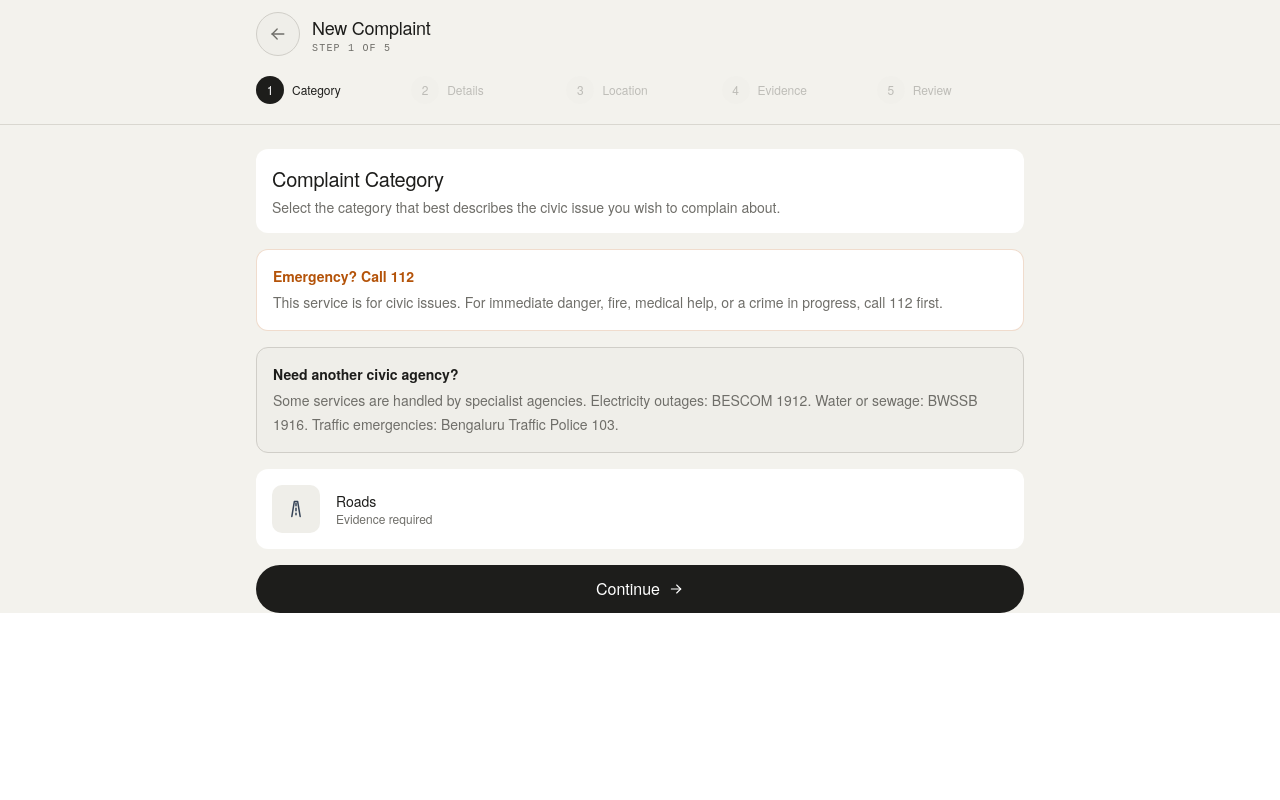
SubmitPage › allows navigating back to edit previous steps
The width and height of the screenshot is (1280, 800).
# Select category and proceed
What coordinates should you click on to do the following:
click the radio button "Roads"
I would click on:
 (352, 509)
Its box is top-left (272, 485), bottom-right (432, 533).
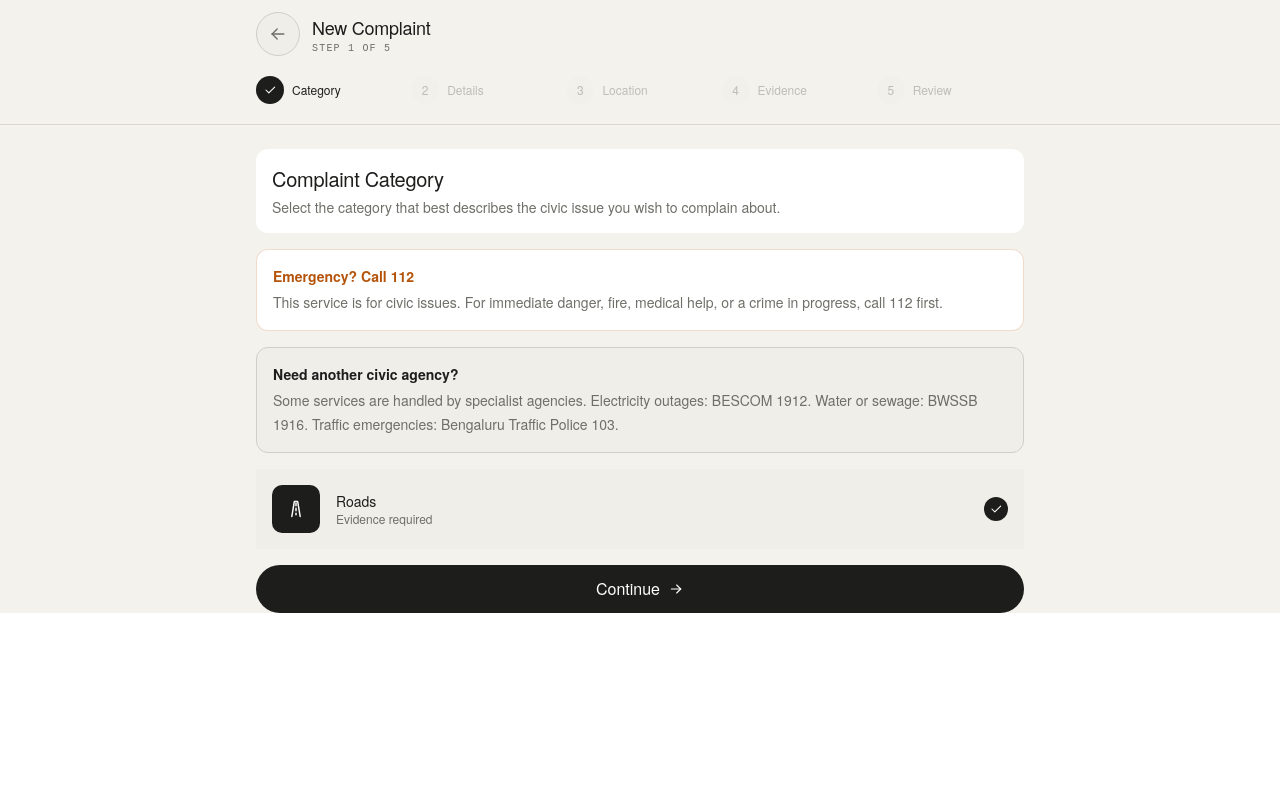
What coordinates should you click on to do the following:
click the button "Continue"
I would click on:
 (640, 589)
Its box is top-left (256, 565), bottom-right (1024, 613).
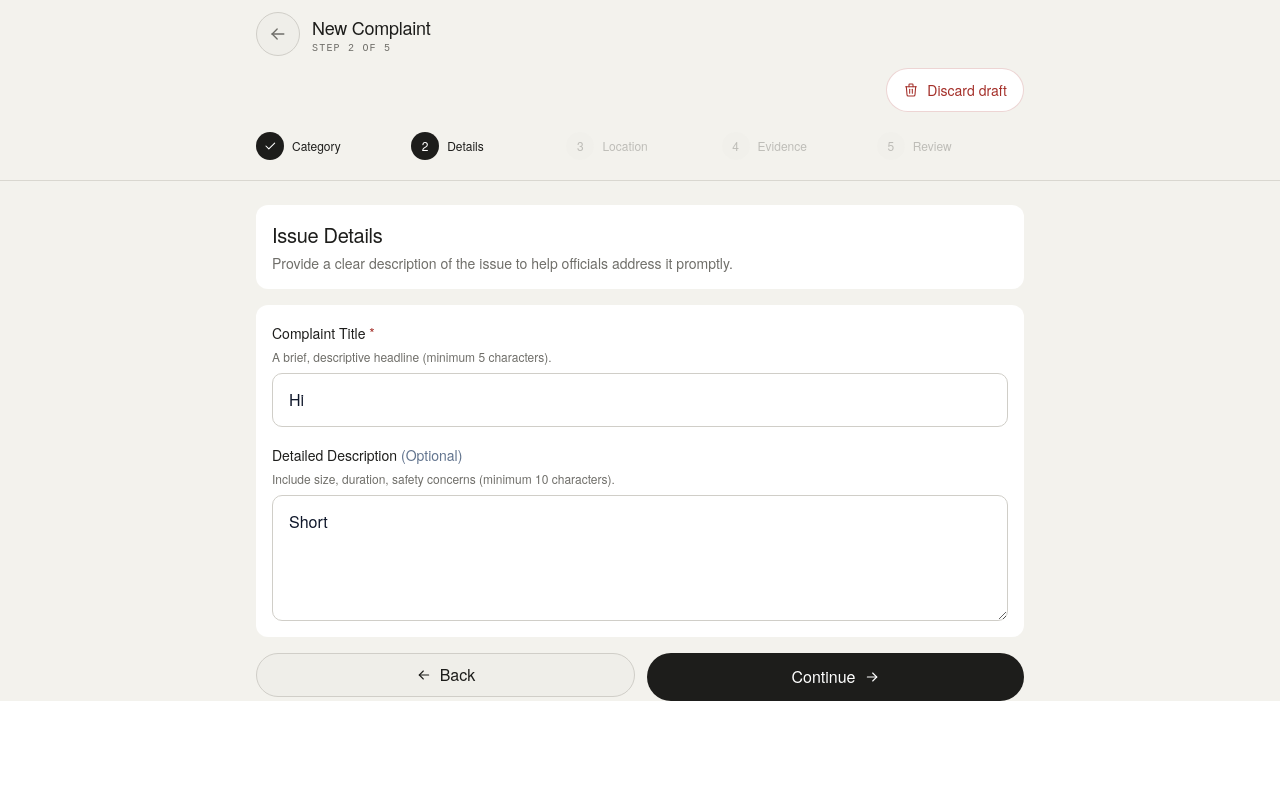
Expected: the heading "Issue Details" is shown, top-left (272, 220), bottom-right (382, 249)
# Get the Back button (there should be only one visible at this step)
What coordinates should you click on to do the following:
click the button "Back"
I would click on:
 (446, 675)
Its box is top-left (256, 653), bottom-right (635, 697).
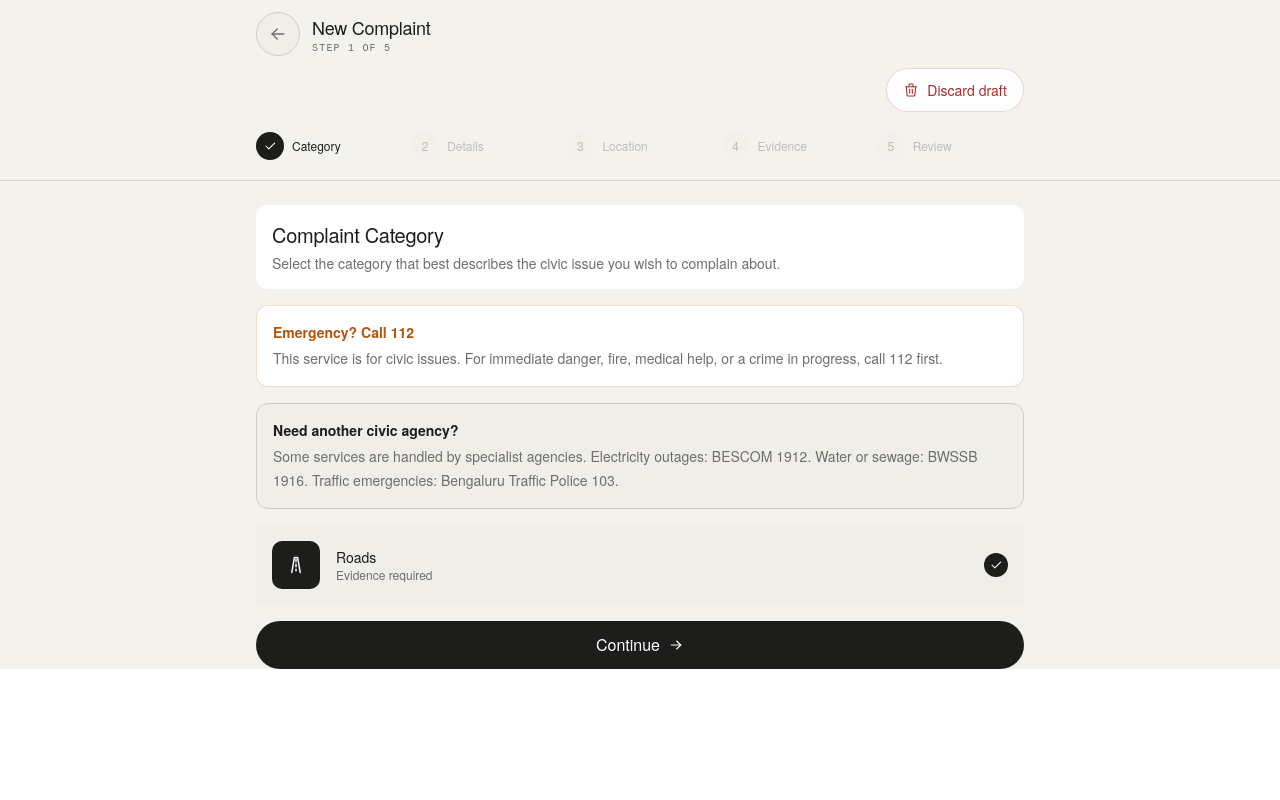
Expected: the heading "Complaint Category" is shown, top-left (272, 220), bottom-right (444, 249)
